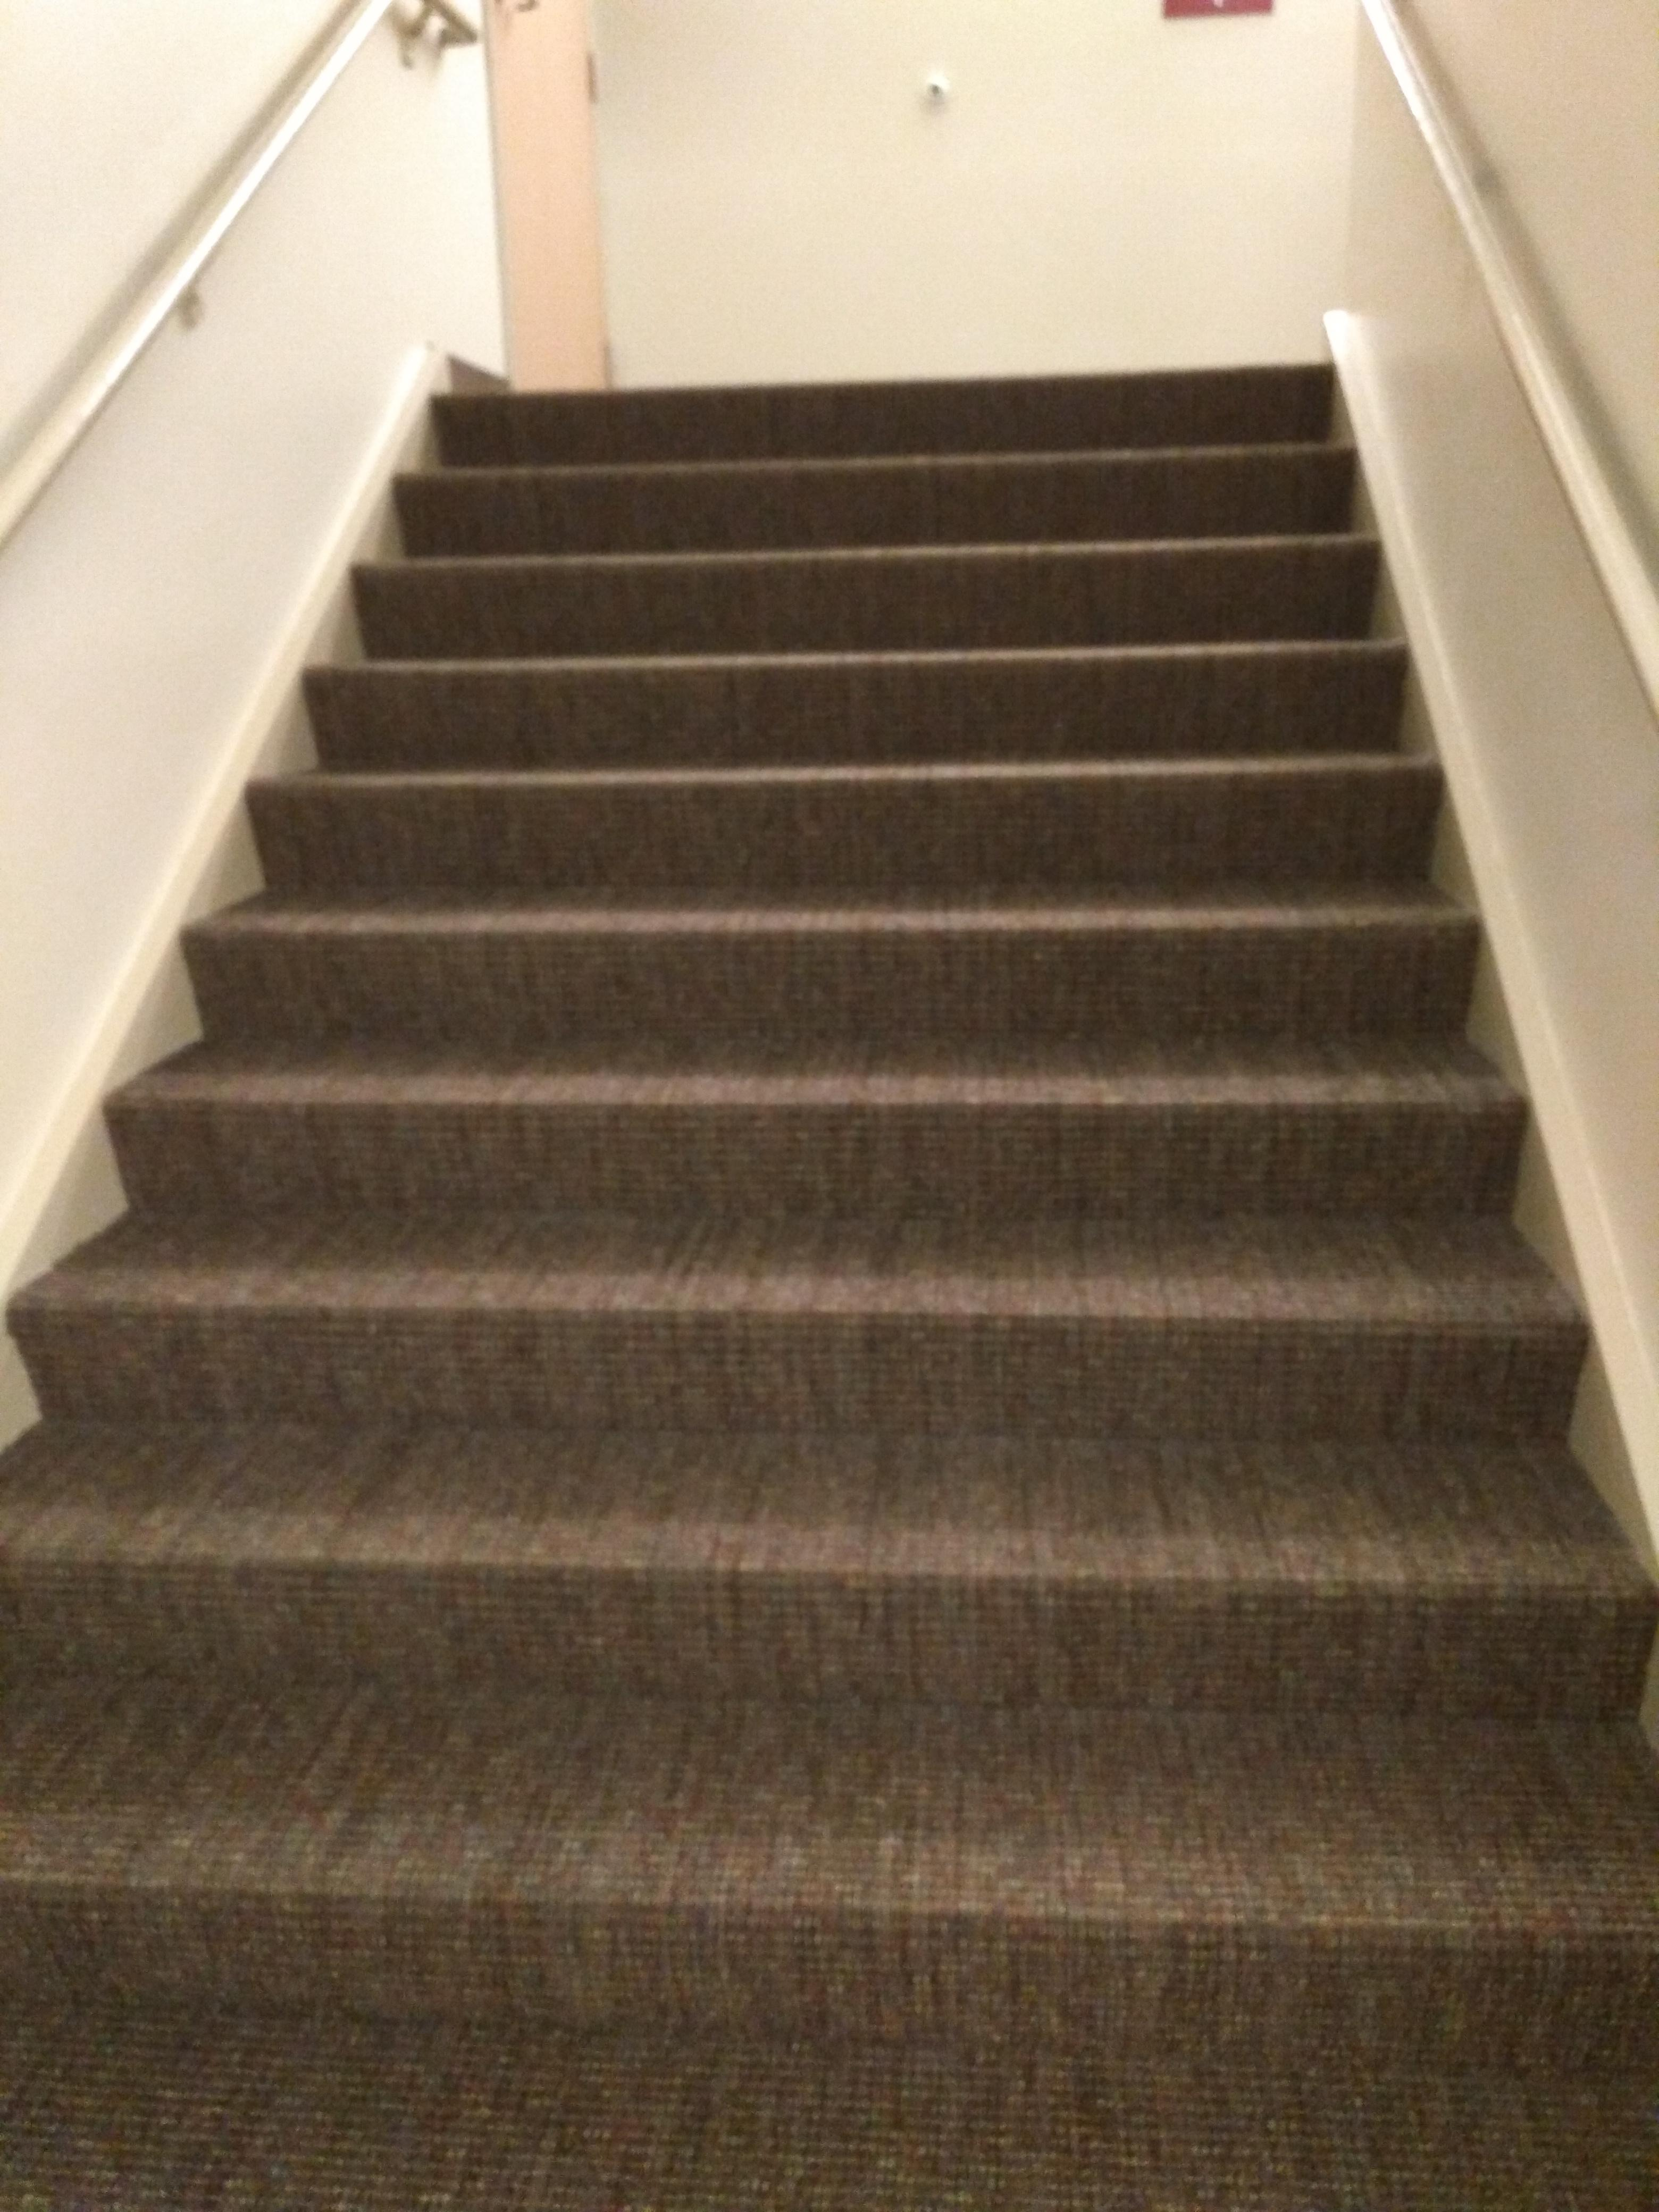stairs_up: (12, 362, 1659, 2027)
